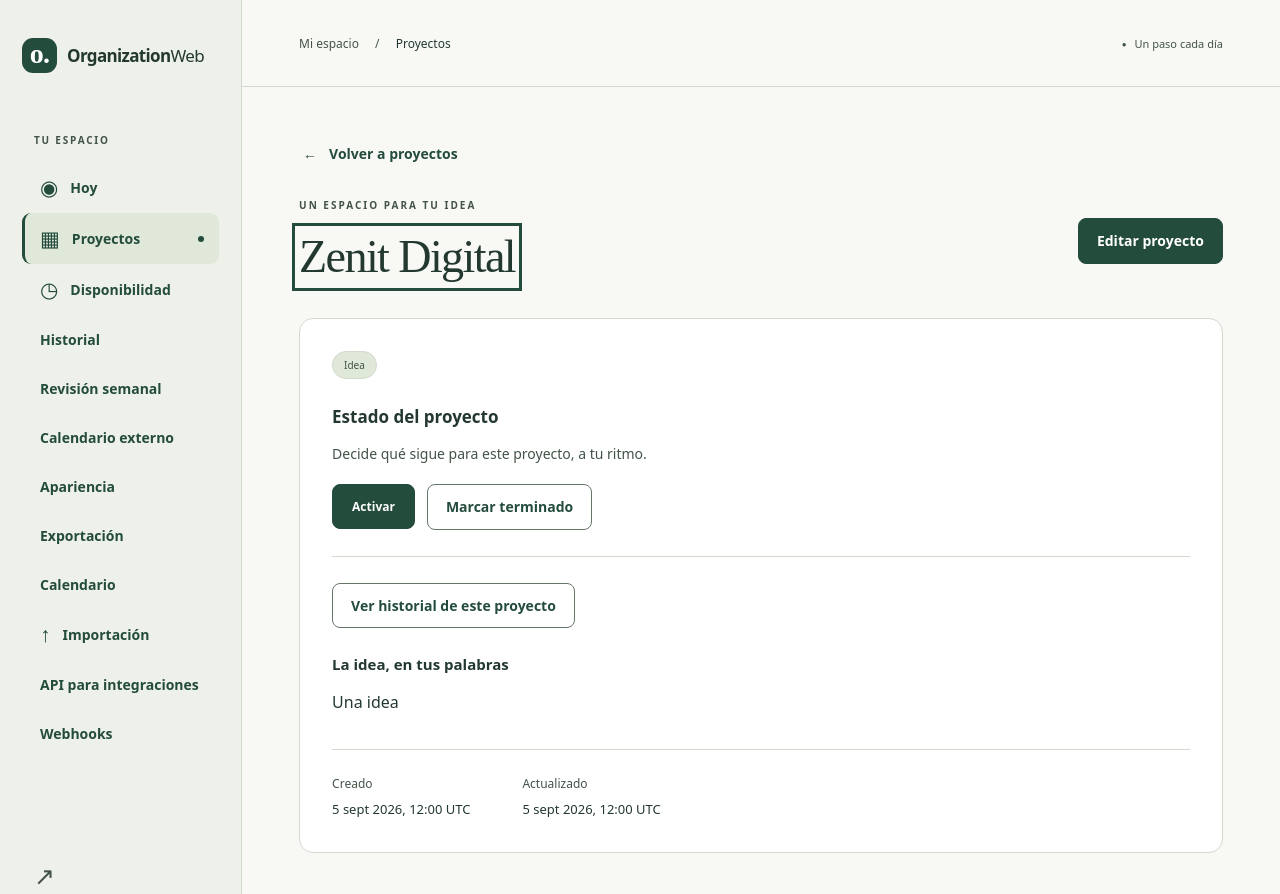
@s1 @s15 idea mediante Marcar terminado confirma completed con ETag del único GET
Click the button "Marcar terminado": click(510, 507) [427,484,592,530]
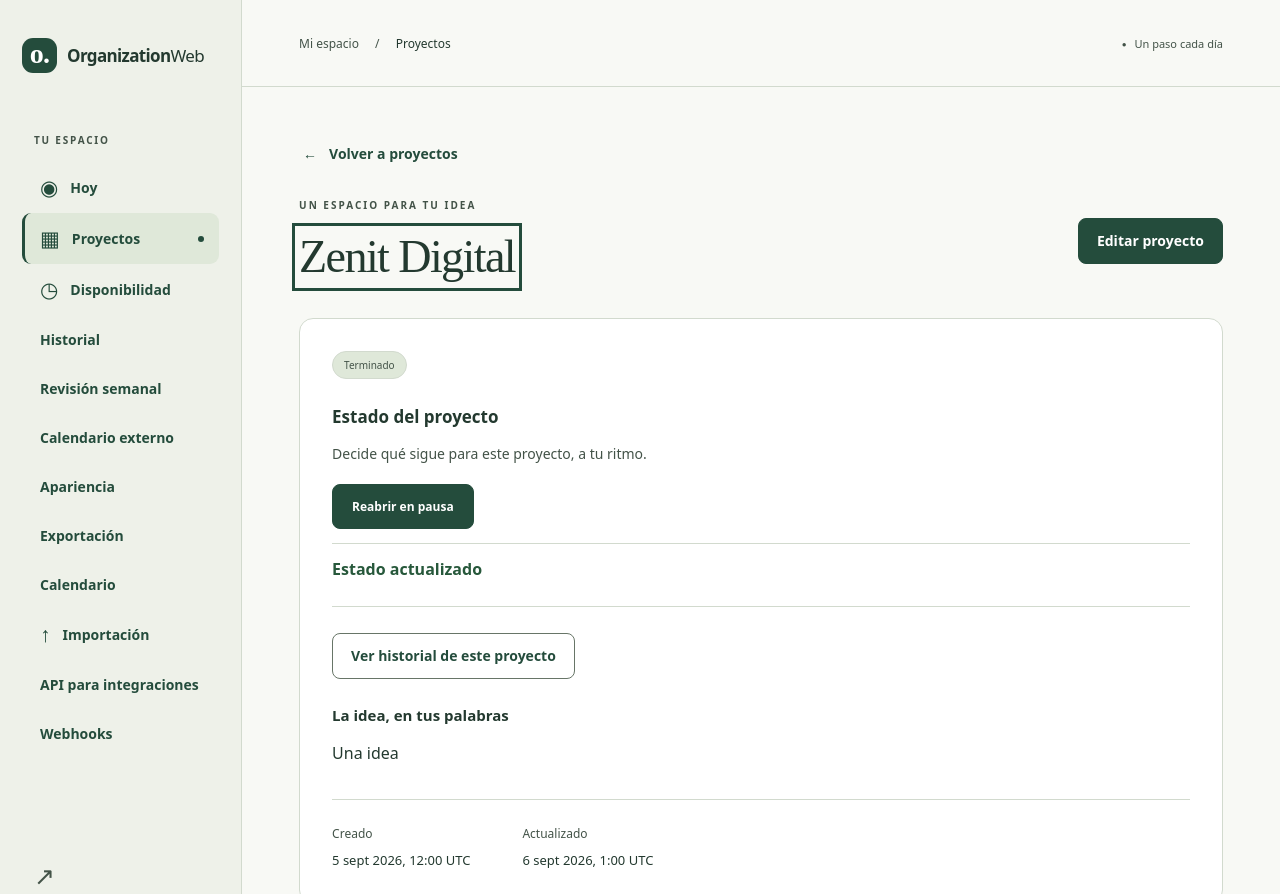
expect the message reads "Estado actualizado": met, box [332,558,482,580]
expect the text "Terminado" is shown: met, box [332,351,407,379]
